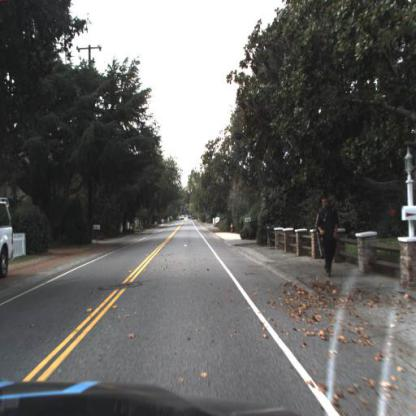car: (1, 199, 15, 280), (182, 216, 185, 222)
pedestrian: (316, 195, 340, 278)
